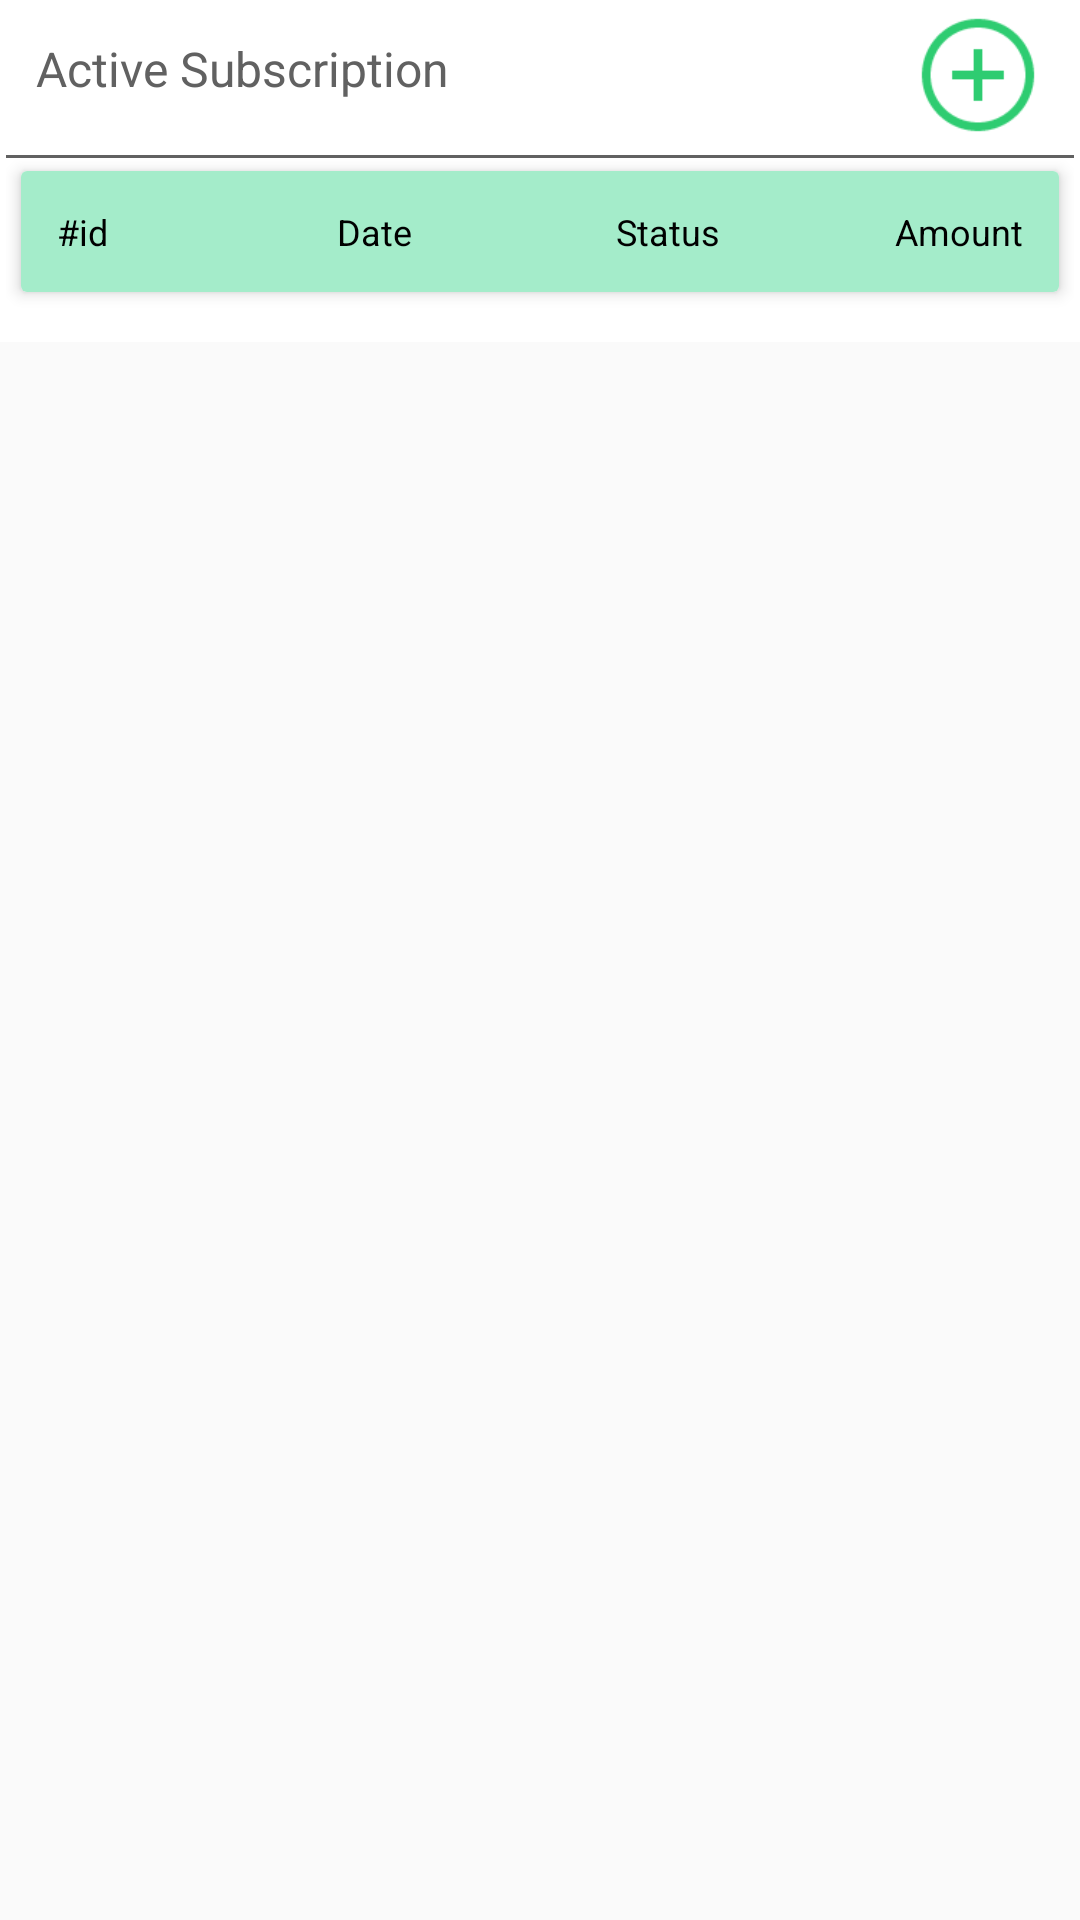

Icons on this 1080 x 1920 Android screen, each with the point to tap as (x,y):
plus: (978,75)
